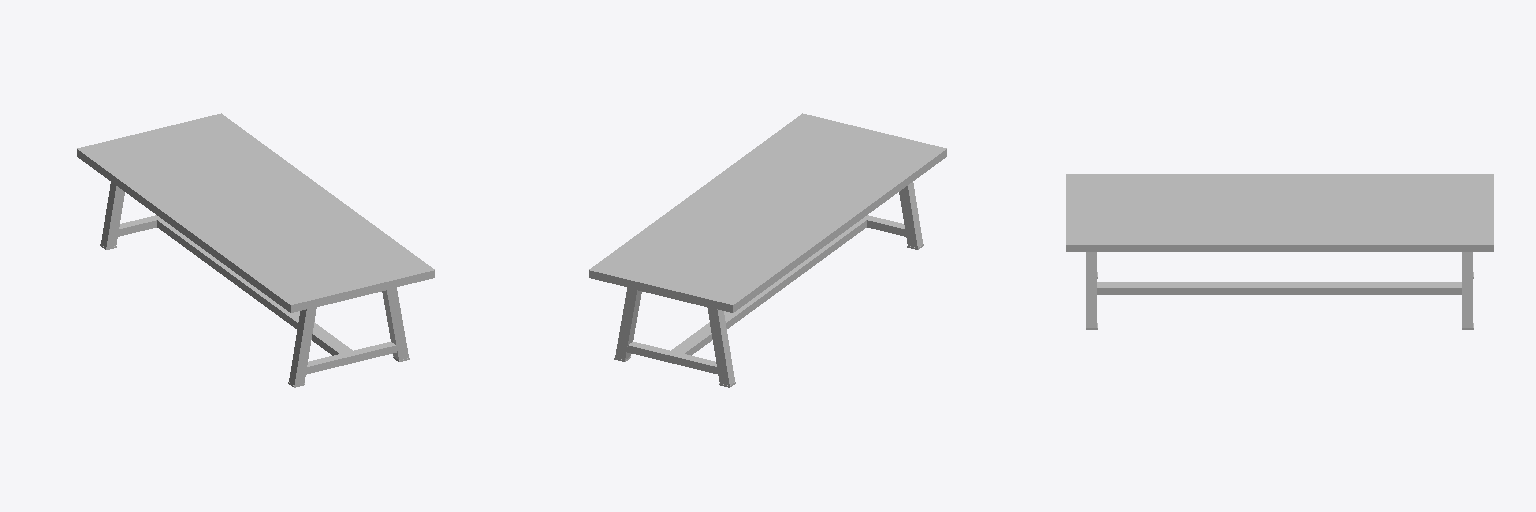
File: table.obj
3 views of the same model, side by side, from view 1: azimuth 30°, elevation 25°; view 2: azimuth 150°, elevation 25°; view 3: azimuth 270°, elevation 25° (orthographic).
Visible parts, largest first — view 1: table_Cube.013; view 2: table_Cube.013; view 3: table_Cube.013.
Boxes of the visible parts, x1,y1,x2,y2 form: table_Cube.013: [77, 113, 434, 387]; table_Cube.013: [589, 113, 946, 387]; table_Cube.013: [1066, 174, 1493, 329].
Size of the model in its own units: 1.85 by 1.14 by 4.74.